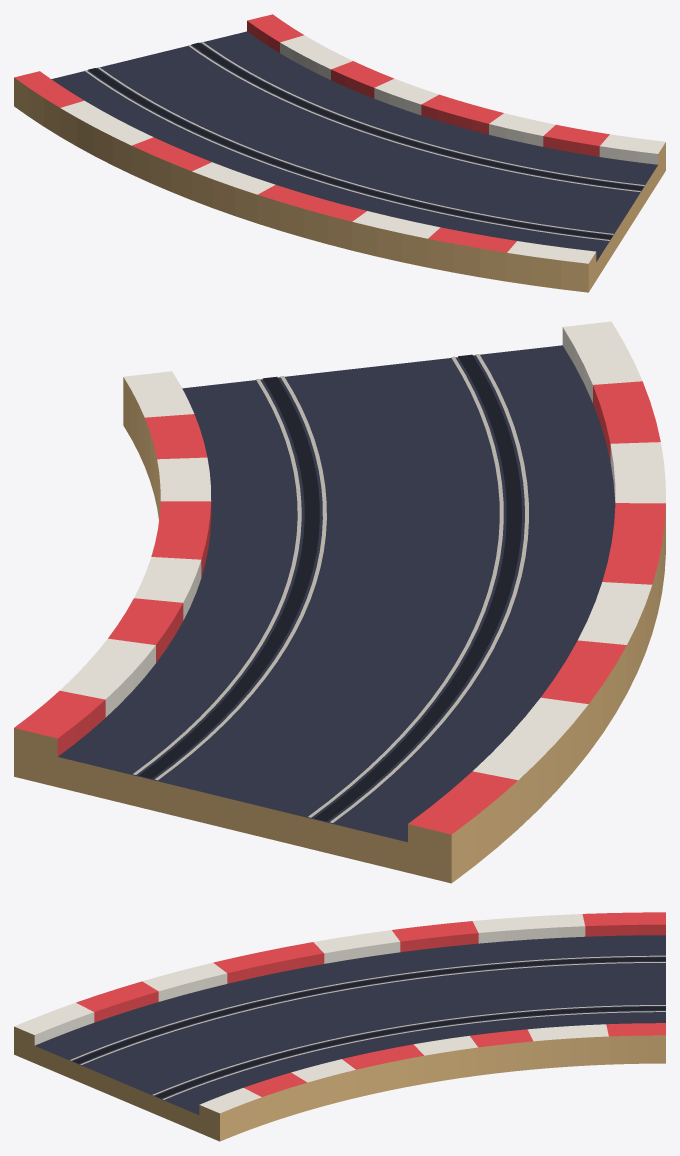
The model's file is Track_2L_Curve45_L.fbx.
3 views of the same model, one above another, from view 1: azimuth 30°, elevation 25°; view 2: azimuth 150°, elevation 25°; view 3: azimuth 270°, elevation 25° (orthographic). The views are drawn at different scales.
Visible parts, largest first — view 1: Track_2L_Curve45_L; view 2: Track_2L_Curve45_L; view 3: Track_2L_Curve45_L.
Boxes of the visible parts, x1,y1,x2,y2 form: Track_2L_Curve45_L: (14, 14, 665, 292); Track_2L_Curve45_L: (14, 321, 665, 883); Track_2L_Curve45_L: (14, 912, 665, 1141).
Bounding box in the file's own units: 4.9 × 0.32 × 6.72.
